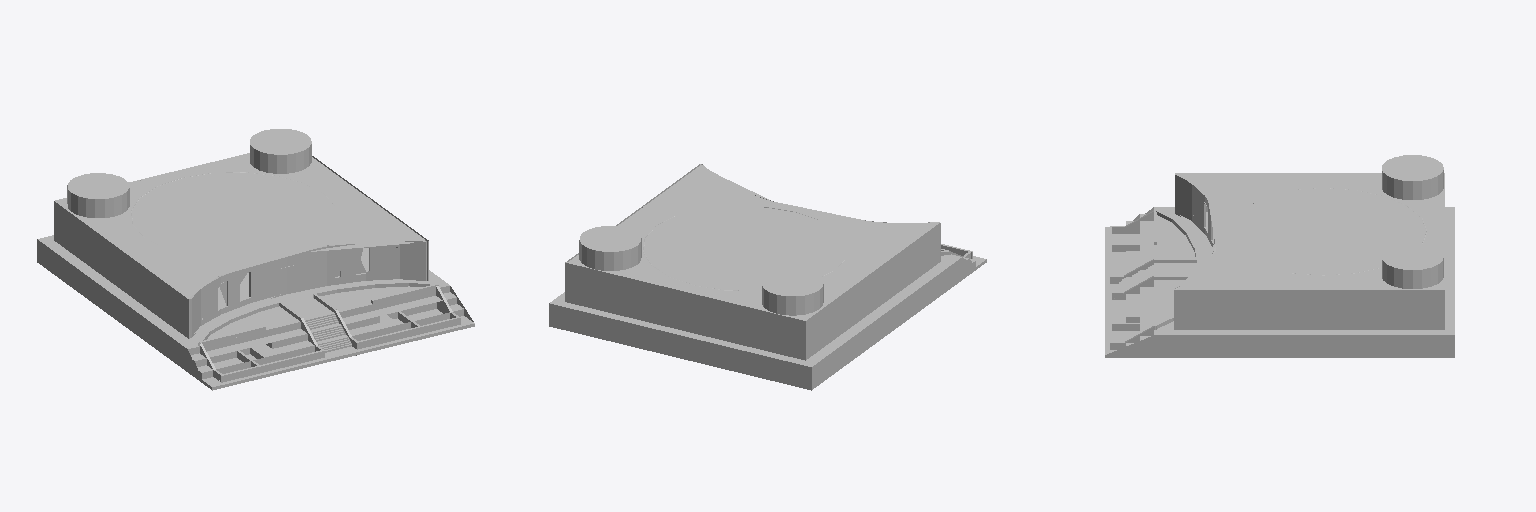
The model's file is Combinado.obj.
3 views of the same model, side by side, from view 1: azimuth 30°, elevation 25°; view 2: azimuth 150°, elevation 25°; view 3: azimuth 270°, elevation 25° (orthographic).
Visible parts, largest first — view 1: pCube41, pCube37, group60_pasted__group57_pasted__pPipe4, pasted__pCube2group21, pCylinder12, pCylinder13, pasted__pCube33 group34, pasted__pCube1, pasted__pPipe4group18, pasted__pasted__pCube33 pasted__group34 group35; view 2: pCube41, pCube37, pasted__pasted__pasted__pCube2pasted__group21group24 group9, pasted__pCube2group21, pCylinder13, pCylinder12; view 3: pCube41, pCube37, polySurface1 Marmol, pCylinder12, pCylinder13, group60_pasted__group57_pasted__pPipe4.
Boxes of the visible parts, x1=… form: pCube41: x1=55, y1=154, x2=428, y2=300; pCube37: x1=37, y1=235, x2=474, y2=390; group60_pasted__group57_pasted__pPipe4: x1=190, y1=241, x2=426, y2=337; pasted__pCube2group21: x1=55, y1=201, x2=189, y2=338; pCylinder12: x1=67, y1=173, x2=129, y2=217; pCylinder13: x1=250, y1=129, x2=311, y2=173; pasted__pCube33 group34: x1=220, y1=317, x2=460, y2=382; pasted__pCube1: x1=55, y1=240, x2=428, y2=337; pasted__pPipe4group18: x1=198, y1=282, x2=436, y2=345; pasted__pasted__pCube33 pasted__group34 group35: x1=199, y1=284, x2=438, y2=346; pCube41: x1=566, y1=164, x2=936, y2=322; pCube37: x1=549, y1=254, x2=986, y2=390; pasted__pasted__pasted__pCube2pasted__group21group24 group9: x1=566, y1=262, x2=806, y2=359; pasted__pCube2group21: x1=806, y1=222, x2=939, y2=358; pCylinder13: x1=579, y1=226, x2=641, y2=270; pCylinder12: x1=762, y1=270, x2=823, y2=315; pCube41: x1=1175, y1=174, x2=1442, y2=291; pCube37: x1=1105, y1=207, x2=1454, y2=357; polySurface1 Marmol: x1=1174, y1=290, x2=1444, y2=329; pCylinder12: x1=1382, y1=155, x2=1443, y2=199; pCylinder13: x1=1382, y1=244, x2=1443, y2=288; group60_pasted__group57_pasted__pPipe4: x1=1175, y1=174, x2=1215, y2=289.
Size of the model in its own units: 32000 by 10125 by 37000.